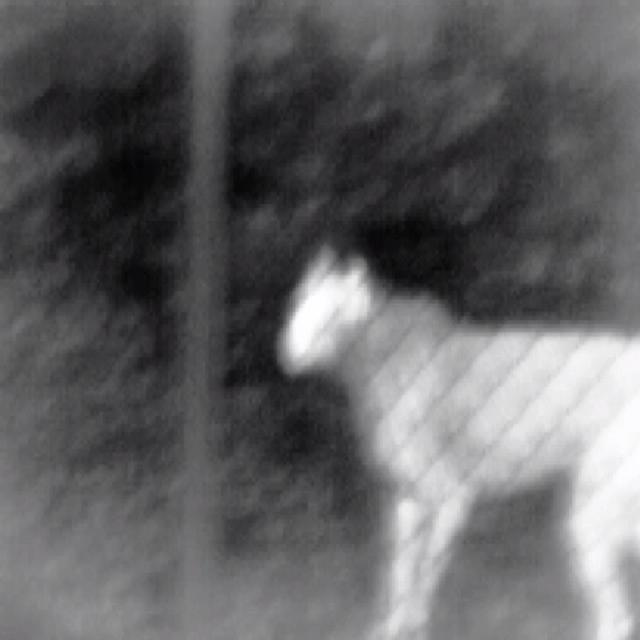cheetah: (278, 246, 639, 638)
